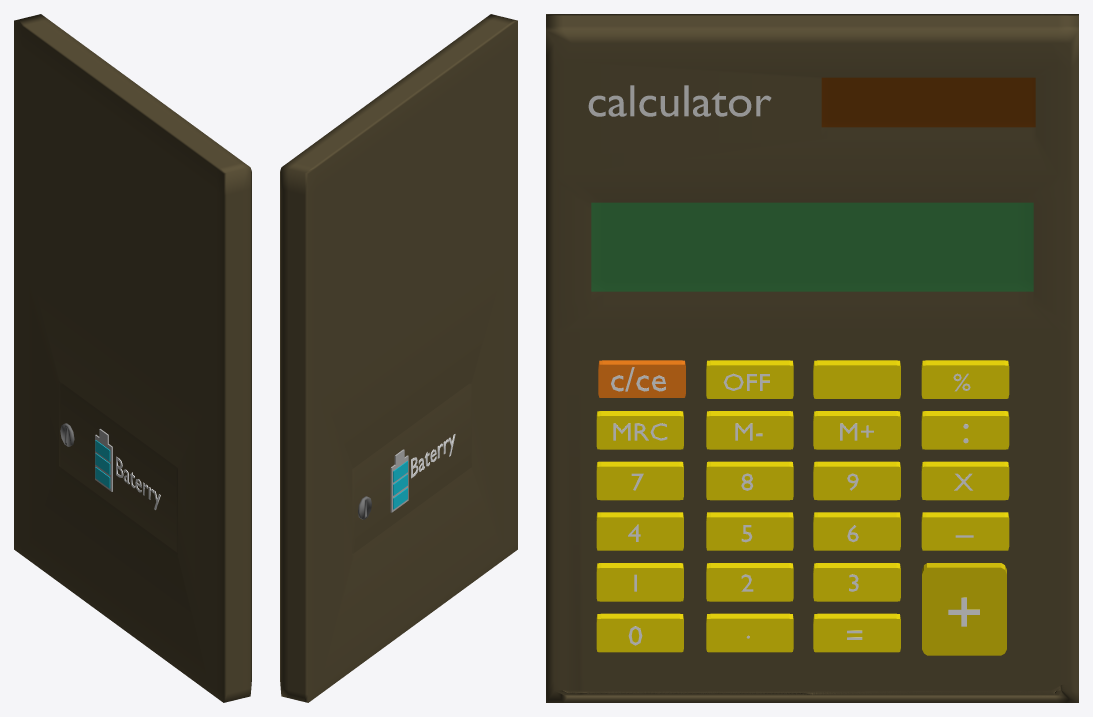
Rendered from calculator.glb.
3 views of the same model, side by side, from view 1: azimuth 30°, elevation 25°; view 2: azimuth 150°, elevation 25°; view 3: azimuth 270°, elevation 25° (orthographic). The views are drawn at different scales.
Parts seen in each view (by area): view 1: Cube, Cube.024, Text.002; view 2: Cube, Cube.024, Text.002; view 3: Cube, Cube.023, Cube.021, Cube.015, Cube.010, Cube.020, Cube.009, Cube.011, Cube.003, Cube.005, Cube.008, Cube.022 (+13 smaller).
Part boxes in pixels (x1,y1,x2,y2): Cube: [14, 14, 251, 702]; Cube.024: [95, 429, 112, 491]; Text.002: [116, 456, 160, 509]; Cube: [280, 14, 517, 702]; Cube.024: [390, 449, 408, 512]; Text.002: [411, 434, 455, 478]; Cube: [546, 14, 1078, 702]; Cube.023: [922, 563, 1006, 655]; Cube.021: [706, 613, 793, 652]; Cube.015: [596, 461, 683, 500]; Cube.010: [921, 461, 1009, 500]; Cube.020: [813, 613, 900, 652]; Cube.009: [813, 461, 900, 500]; Cube.011: [921, 512, 1009, 550]; Cube.003: [813, 360, 900, 398]; Cube.005: [921, 411, 1009, 449]; Cube.008: [706, 461, 793, 500]; Cube.022: [596, 613, 683, 652].
Bounding box in the file's own units: 0.4176 × 4.92 × 3.54.
